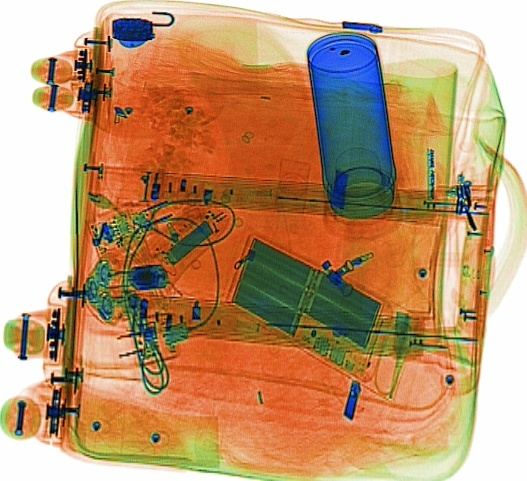powerbank: (221, 230, 393, 384)
